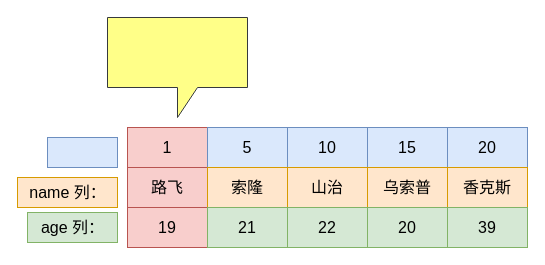
This 545x265 diagram has some shape labels left out. Here are the shapes that lost their labels. From the top down, the centre of each, then its label:
At (177,67): "给 id 为 1 的这条记录加 X 型的记录锁".
At (82,152): "id 列：".
